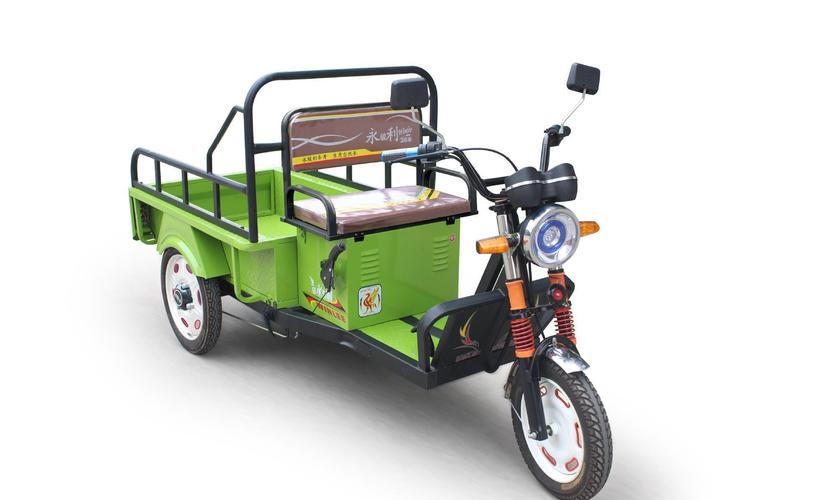empty: (107, 43, 657, 494)
